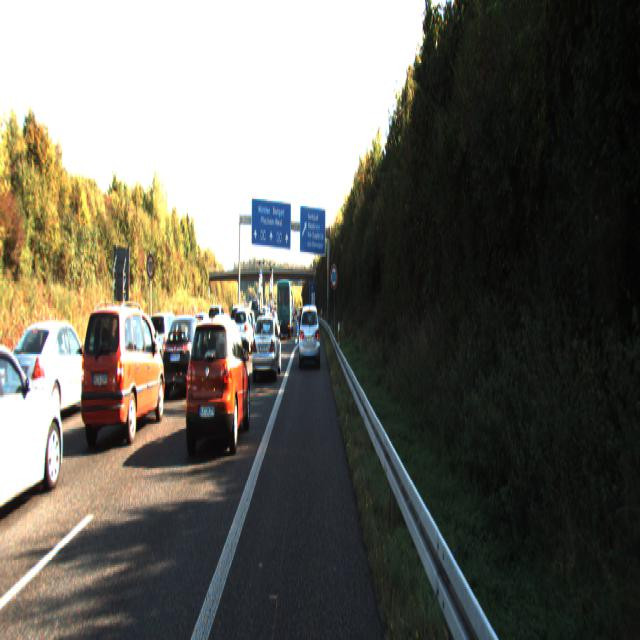Car: (0, 329, 67, 527), (78, 300, 166, 450), (5, 315, 96, 434), (182, 315, 251, 461), (162, 311, 212, 400), (250, 312, 282, 382), (299, 302, 320, 367), (232, 307, 254, 353), (275, 277, 291, 337)
